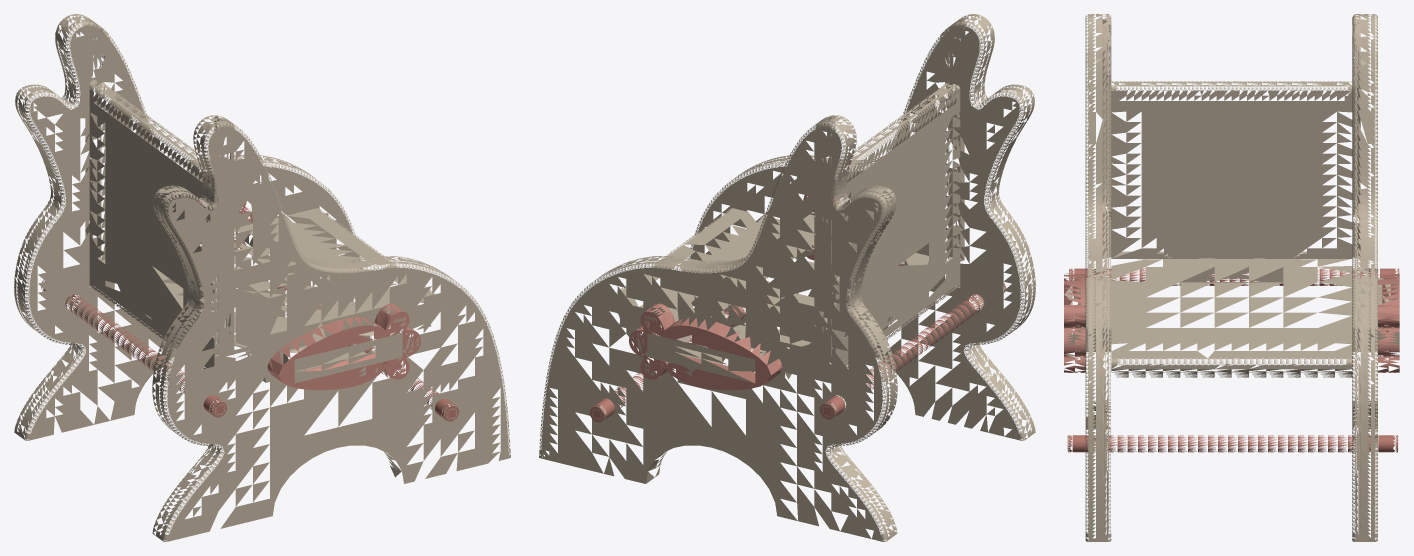
The model's file is chair.glb.
The picture shows the model from 3 angles, left to right: view 1: azimuth 30°, elevation 25°; view 2: azimuth 150°, elevation 25°; view 3: azimuth 270°, elevation 25°; orthographic projection. The views are drawn at different scales.
Visible parts, largest first — view 1: 侧板, 靠背, 坐板, 兔子, 榫卯, 草, 最后; view 2: 侧板, 靠背, 坐板, 兔子, 榫卯, 草, 最后; view 3: 靠背, 侧板, 坐板, 榫卯, 草, 兔子, 最后.
Boxes of the visible parts, left/top/right/bottom form: 侧板: left=14, top=14, right=510, bottom=541; 靠背: left=85, top=80, right=234, bottom=356; 坐板: left=89, top=208, right=435, bottom=383; 兔子: left=200, top=200, right=389, bottom=390; 榫卯: left=41, top=279, right=459, bottom=421; 草: left=217, top=198, right=420, bottom=379; 最后: left=85, top=19, right=234, bottom=176; 侧板: left=539, top=14, right=1035, bottom=541; 靠背: left=815, top=82, right=964, bottom=358; 坐板: left=616, top=208, right=960, bottom=383; 兔子: left=660, top=200, right=904, bottom=390; 榫卯: left=589, top=281, right=1005, bottom=422; 草: left=629, top=195, right=838, bottom=379; 最后: left=815, top=20, right=964, bottom=177; 靠背: left=1102, top=81, right=1360, bottom=282; 侧板: left=1085, top=14, right=1377, bottom=541; 坐板: left=1064, top=251, right=1399, bottom=377; 榫卯: left=1067, top=268, right=1399, bottom=452; 草: left=1064, top=305, right=1399, bottom=372; 兔子: left=1064, top=273, right=1399, bottom=352; 最后: left=1102, top=19, right=1360, bottom=87.
Size of the model in its own units: 45.04 by 50 by 39.05.
